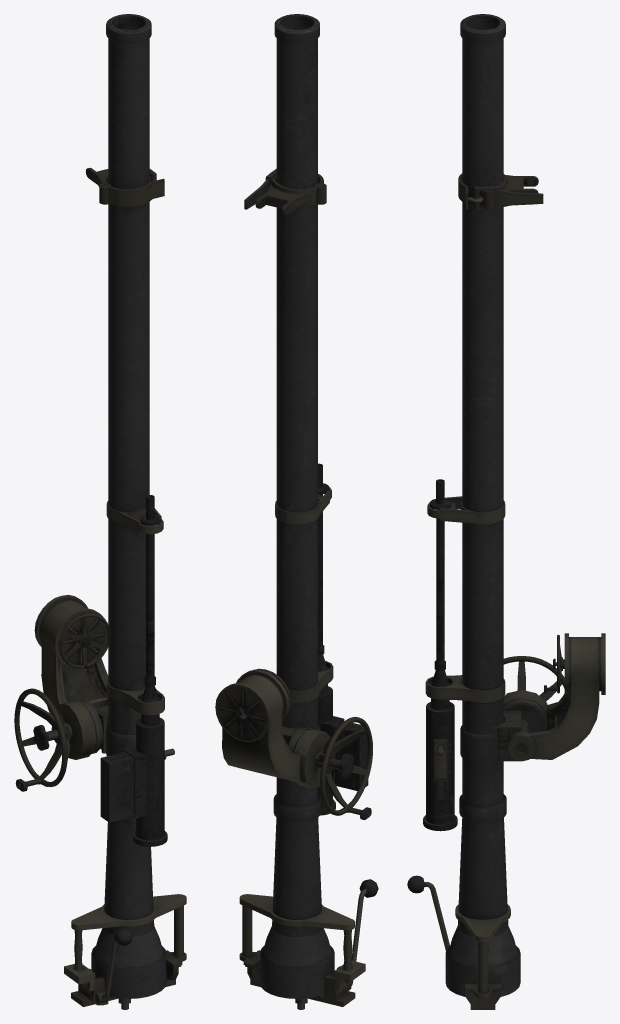
File: 106mmRR.obj
3 renders of one model, left to right at view 1: azimuth 30°, elevation 25°; view 2: azimuth 150°, elevation 25°; view 3: azimuth 270°, elevation 25°, orthographic.
Parts seen in each view (by area): view 1: RR106; view 2: RR106; view 3: RR106.
Boxes of the visible parts, left/top/right/bottom form: RR106: left=14, top=14, right=186, bottom=1009; RR106: left=215, top=14, right=378, bottom=1009; RR106: left=407, top=14, right=605, bottom=1009.
Size of the model in its own units: 0.4122 by 2.63 by 0.4794.
1 material, 1 textured.
